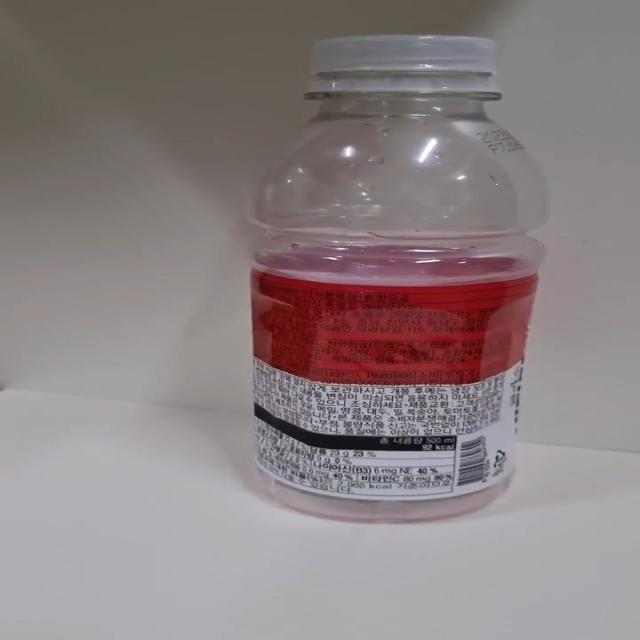Plastic: (244, 35, 551, 526)
